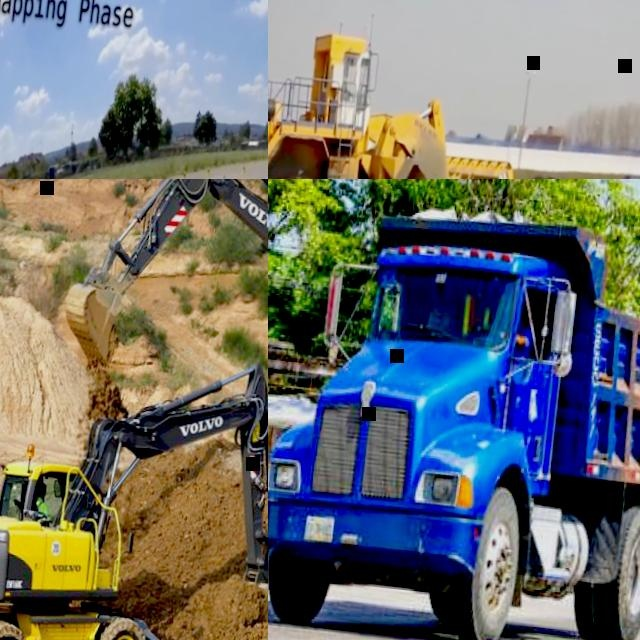NO-Hardhat: (39, 484, 49, 494)
Person: (32, 484, 56, 521)
Safety Cone: (205, 164, 211, 177), (181, 168, 188, 179), (241, 163, 246, 175), (219, 173, 227, 179), (156, 173, 163, 179), (264, 170, 268, 179)
Safety Vest: (33, 498, 51, 520)
machinery: (268, 195, 640, 640), (0, 326, 268, 640), (46, 179, 268, 504), (268, 6, 544, 179)
